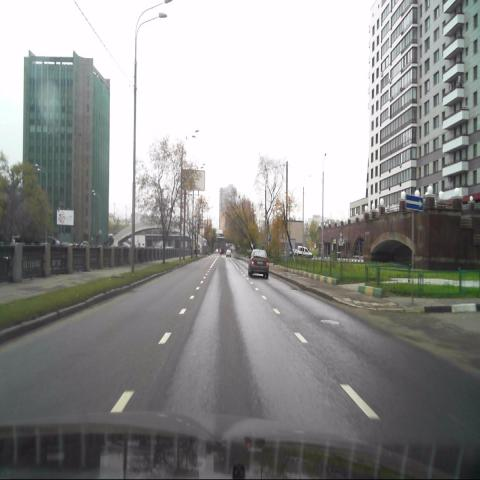5_7_1: (406, 194, 424, 210)
